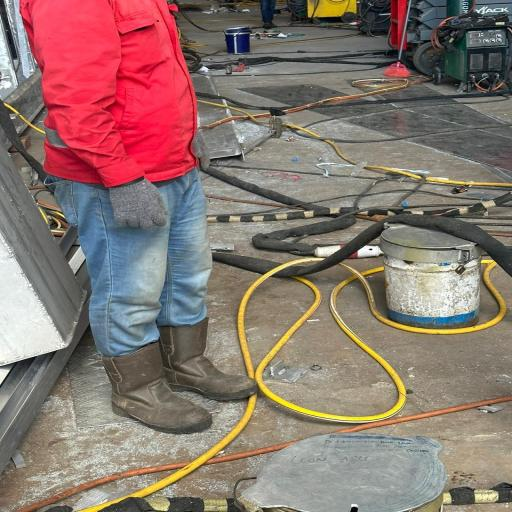safety_shoe: (94, 340, 217, 438), (158, 313, 268, 409)
